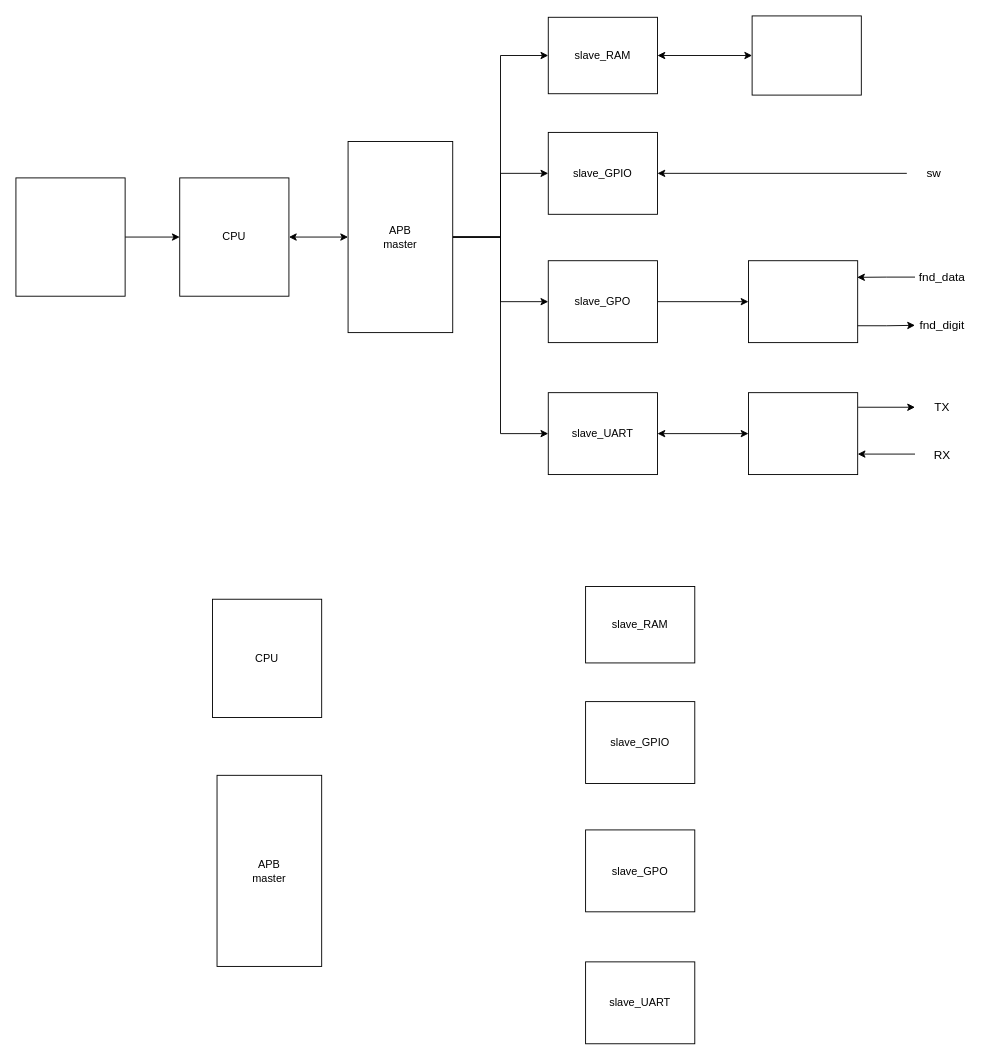
Image size: 986x1060. Some labels were removed from this diagram. The centre of each missing label's shape, as x and y in pixels:
FND: (x=803, y=301)
Instr ROM: (x=70, y=236)
RAM: (x=806, y=55)
UART: (x=803, y=433)
